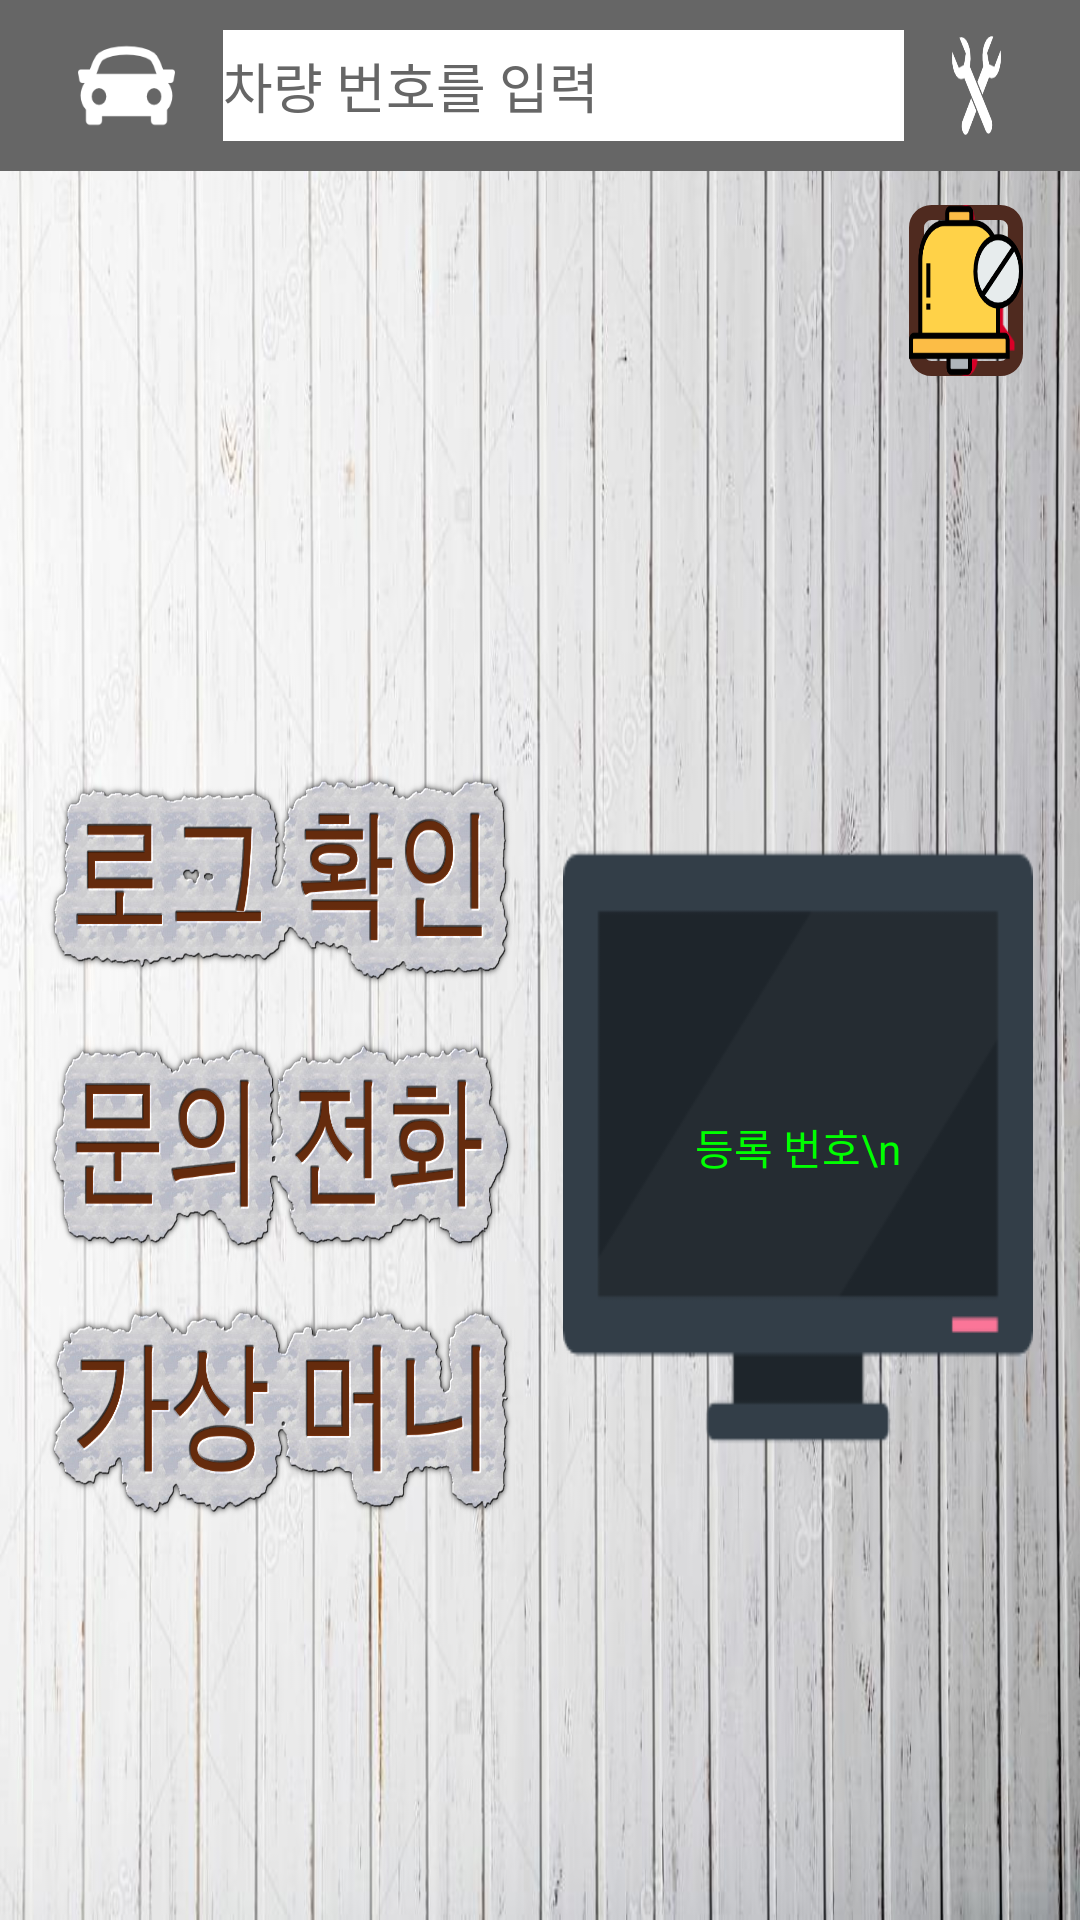

Where icons sit on this 1080 × 1920 app screen, as (x1, y1, x2, y2):
car: (78, 46, 175, 125)
fix: (952, 36, 1001, 135)
